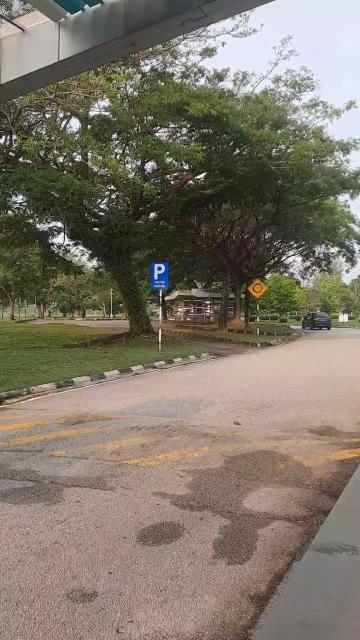car: (302, 311, 333, 332)
